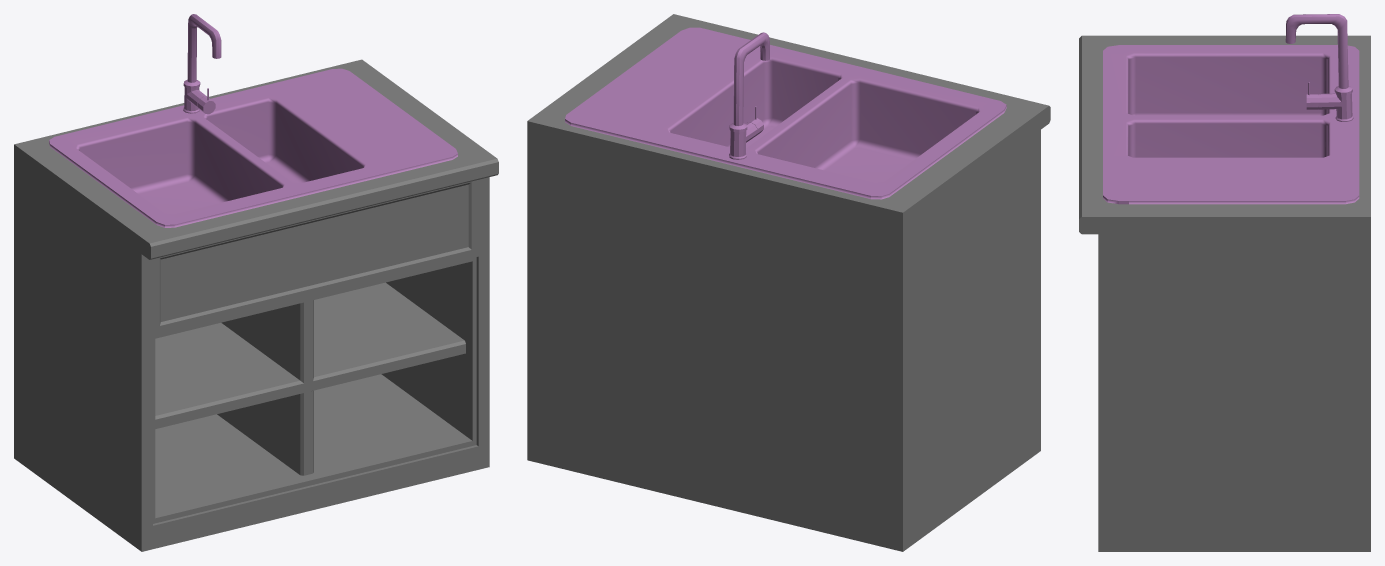
The model's file is MeubleLavaboCuisine.fbx.
3 renders of one model, left to right at view 1: azimuth 30°, elevation 25°; view 2: azimuth 150°, elevation 25°; view 3: azimuth 270°, elevation 25°, orthographic. The views are drawn at different scales.
Parts seen in each view (by area): view 1: MeubleLavaboCuisine; view 2: MeubleLavaboCuisine; view 3: MeubleLavaboCuisine.
Boxes of the visible parts, x1,y1,x2,y2 form: MeubleLavaboCuisine: (14, 14, 498, 551); MeubleLavaboCuisine: (527, 14, 1050, 551); MeubleLavaboCuisine: (1079, 14, 1370, 551).
Bounding box in the file's own units: 110 × 125 × 75.
